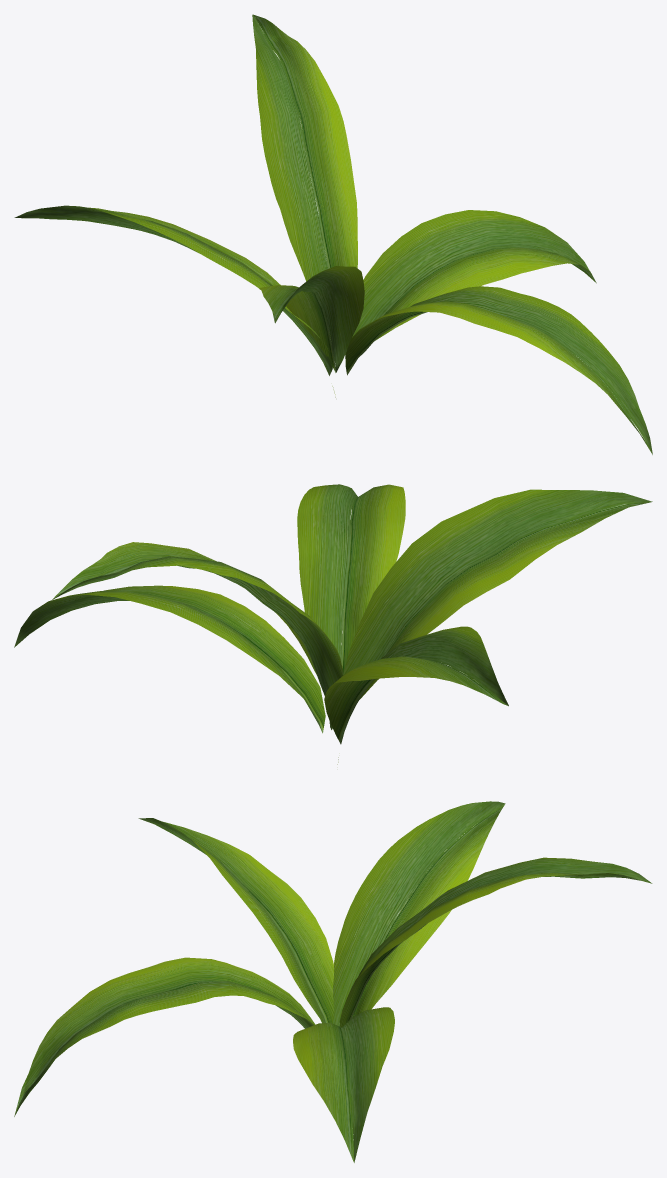
The model's file is sinflor.glb.
The picture shows the model from 3 angles, top to bottom: view 1: azimuth 30°, elevation 25°; view 2: azimuth 150°, elevation 25°; view 3: azimuth 270°, elevation 25°; orthographic projection. The views are drawn at different scales.
Parts seen in each view (by area): view 1: Green Grass Leafs; view 2: Green Grass Leafs; view 3: Green Grass Leafs.
Part boxes in pixels (<box>): Green Grass Leafs: <box>14,14,652,454</box>; Green Grass Leafs: <box>14,484,652,764</box>; Green Grass Leafs: <box>14,801,652,1162</box>.
Size of the model in its own units: 1.02 by 0.4999 by 1.17.
1 material, 1 textured.
